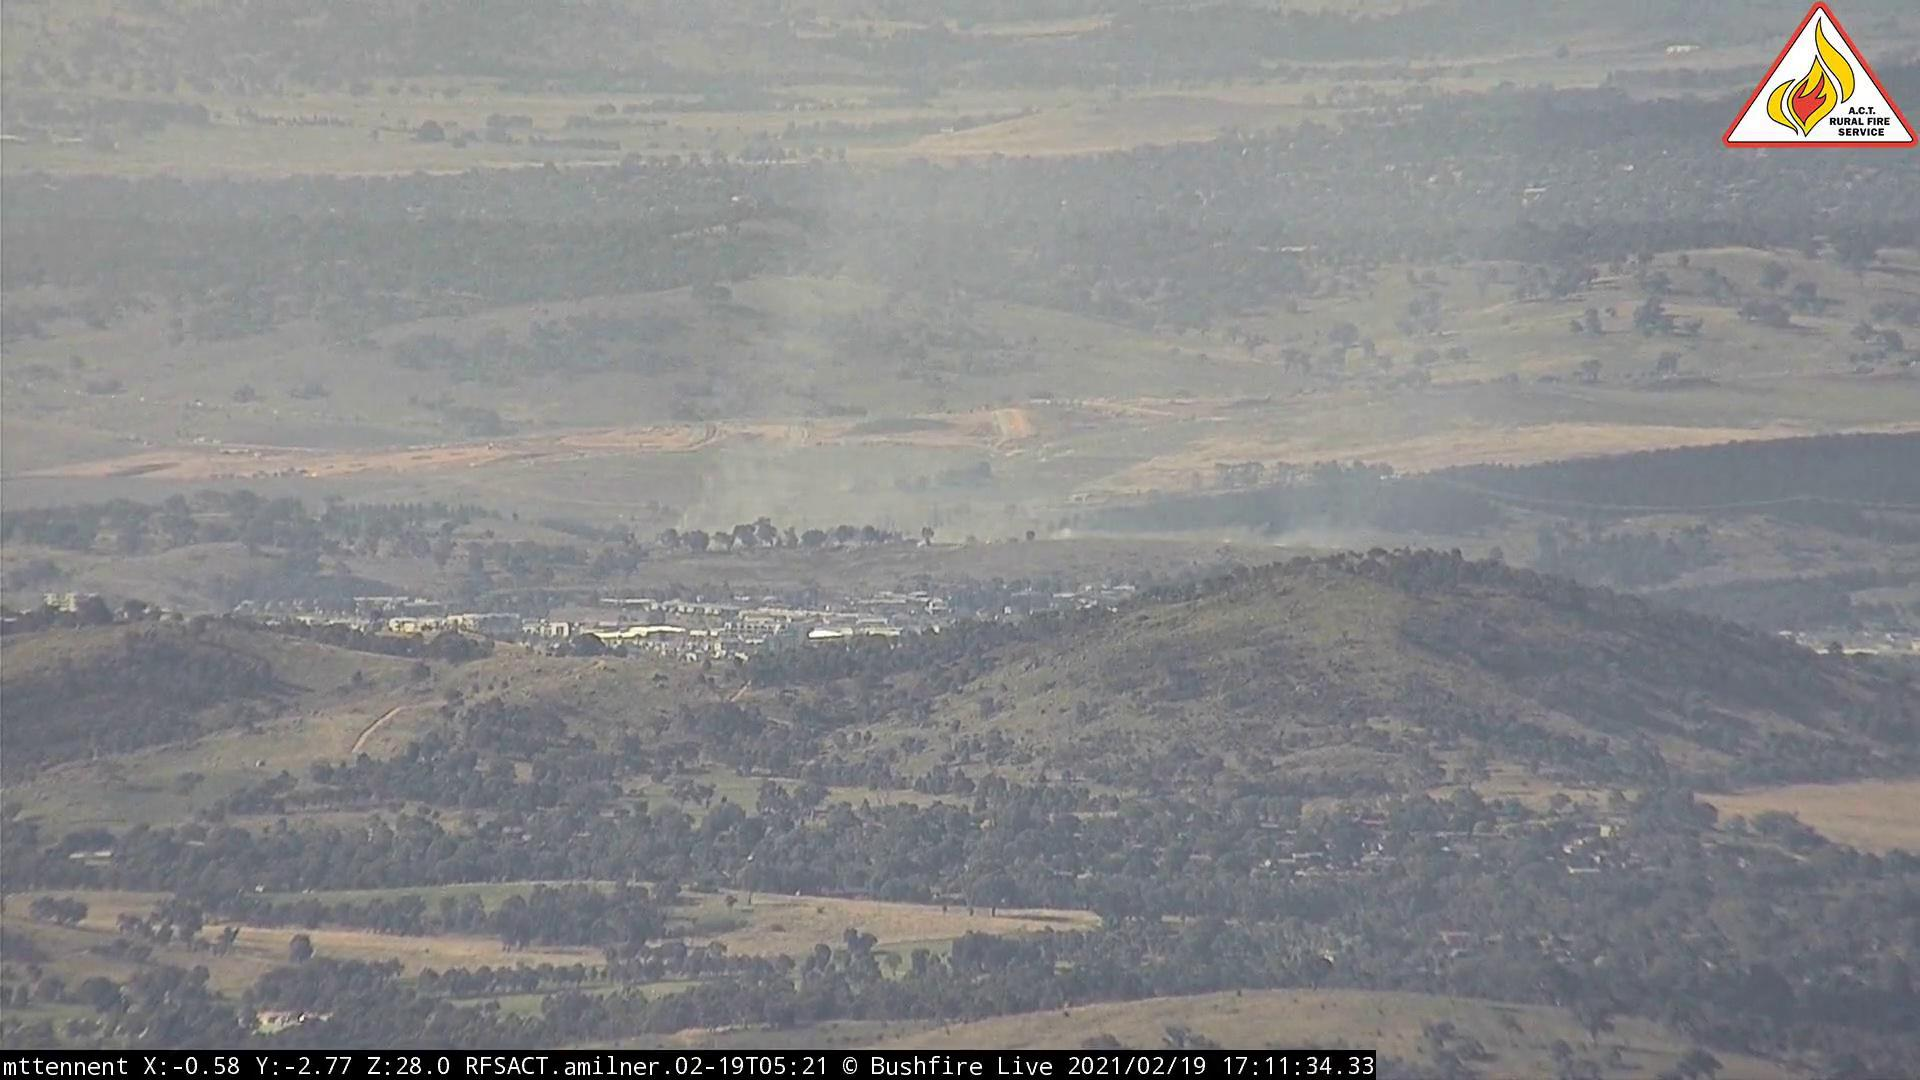instance_salient_object: (650, 316, 1007, 553), (1249, 454, 1414, 553)
